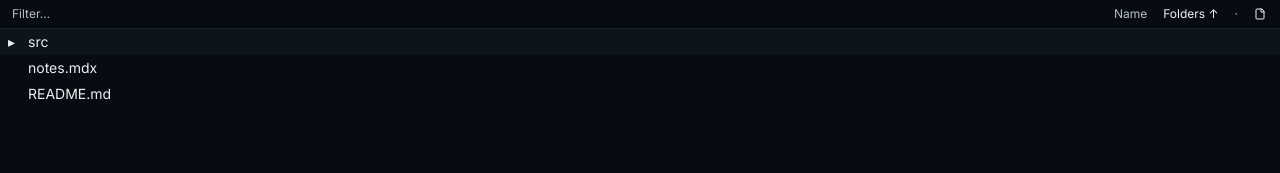
Test: md-only mode — FileTree 통합 › 토글 후 전체 보기 = 비-md 파일도 보임
expect the text "README.md" is shown: met, box [28,84,111,104]
Click the button named "md-only mode toggle" at [1260, 14], box [1248,6,1272,22]
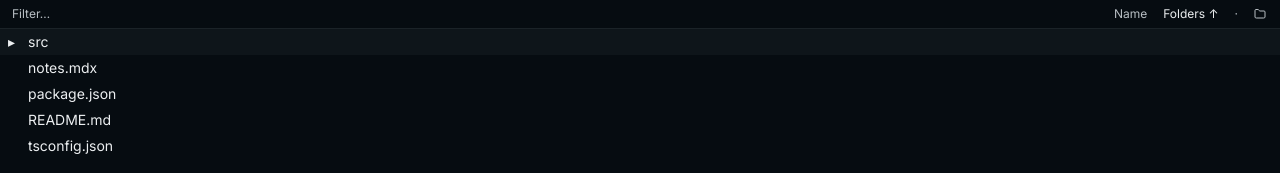
expect the text "README.md" is shown: met, box [28,110,111,130]
expect the text "package.json" is shown: met, box [28,84,116,104]
expect the text "tsconfig.json" is shown: met, box [28,136,113,156]
